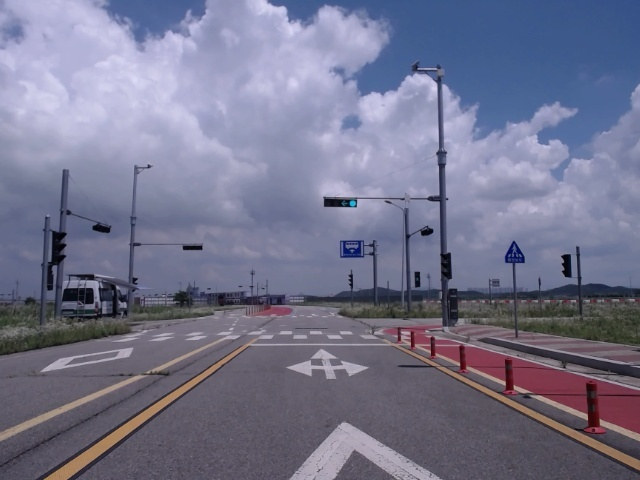all_green_4: (321, 194, 355, 207)
